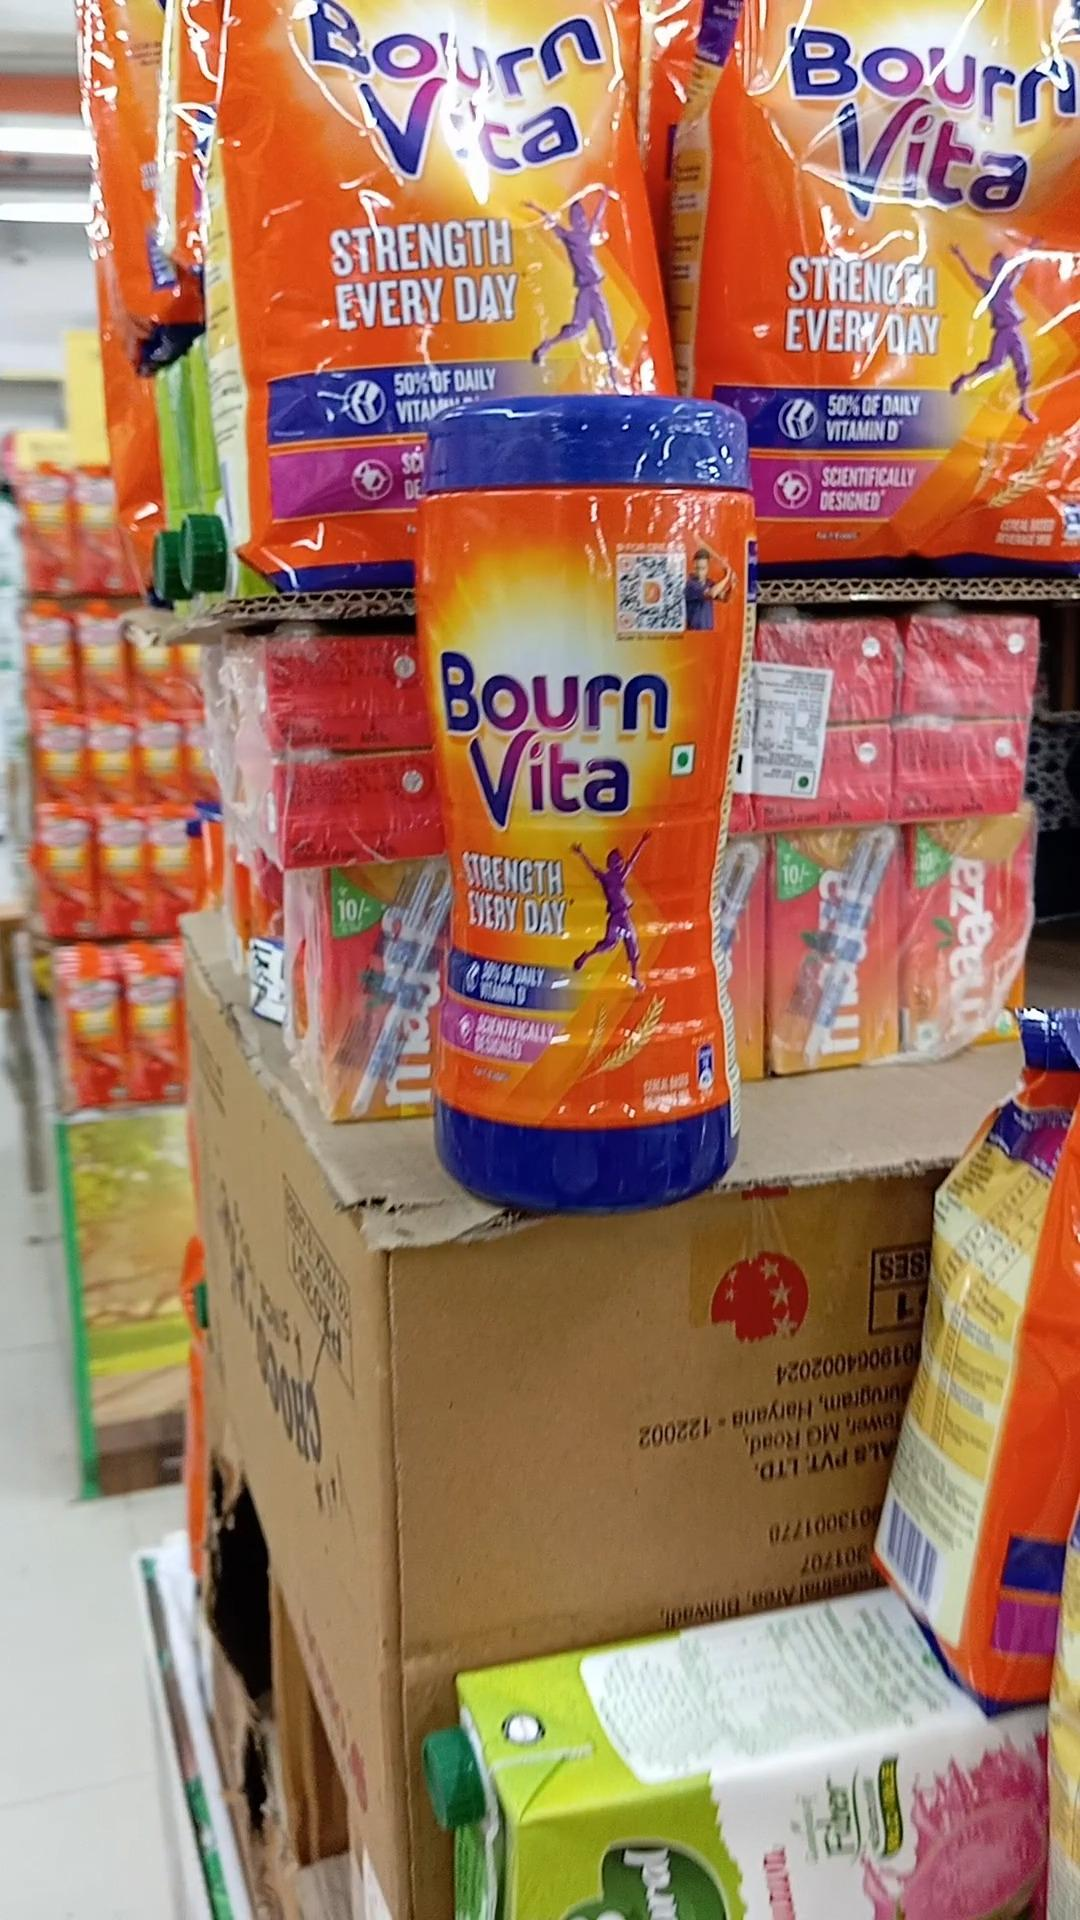BOURN_VITA_500_G_JAR: (413, 373, 746, 1229)
